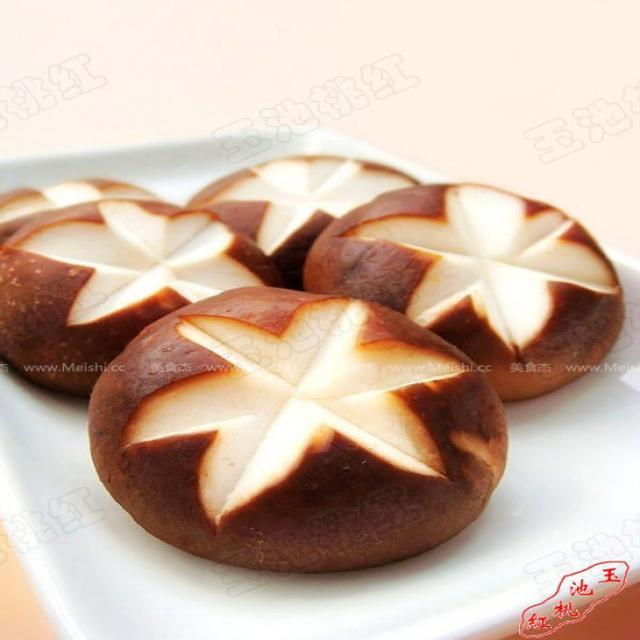Lentinus edodes: (92, 285, 509, 575), (313, 185, 622, 398), (0, 196, 271, 399), (181, 156, 419, 280)
